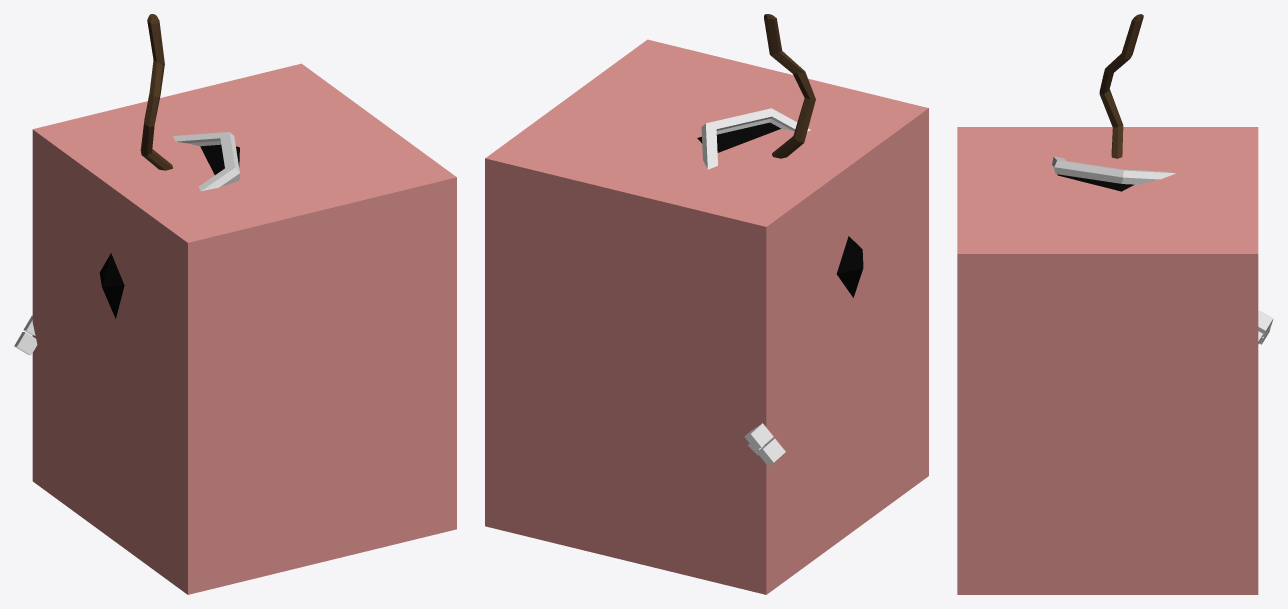
The model's file is Enemy_Exploserd02.fbx.
3 views of the same model, side by side, from view 1: azimuth 30°, elevation 25°; view 2: azimuth 150°, elevation 25°; view 3: azimuth 270°, elevation 25° (orthographic). The views are drawn at different scales.
Visible parts, largest first — view 1: Cube.003; view 2: Cube.003; view 3: Cube.003.
Part boxes in pixels (x1,y1,x2,y2): Cube.003: [14, 14, 456, 594]; Cube.003: [485, 14, 928, 594]; Cube.003: [957, 14, 1273, 594].
Size of the model in its own units: 213 by 352 by 210.
